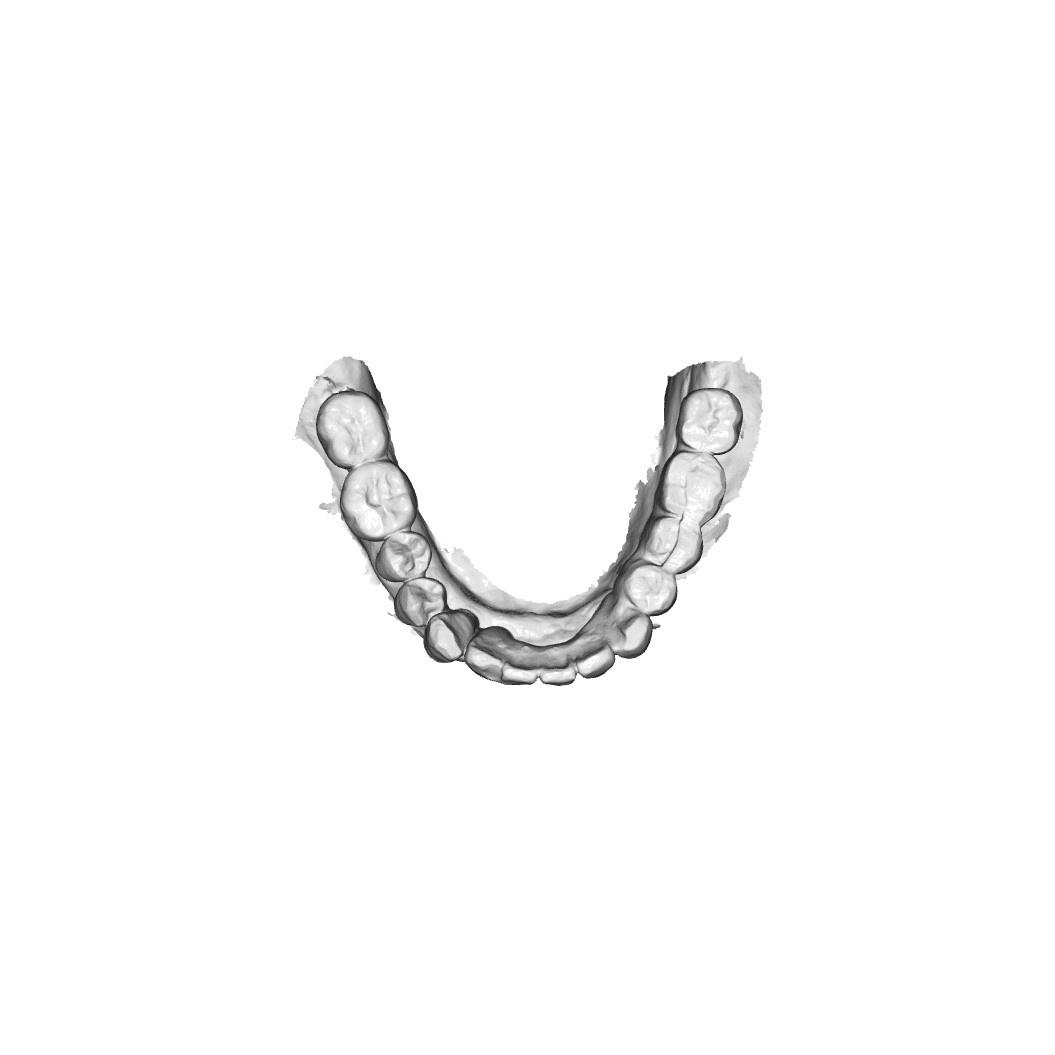canine: (428, 607, 477, 668), (611, 605, 652, 659)
incisor: (470, 628, 506, 678), (576, 632, 613, 677), (543, 648, 577, 686), (506, 654, 540, 686)
molar: (345, 457, 412, 533), (321, 393, 387, 464), (680, 387, 745, 454), (665, 449, 724, 520)
premolar: (647, 512, 706, 572), (397, 576, 450, 629), (628, 563, 679, 615), (378, 530, 429, 578)
